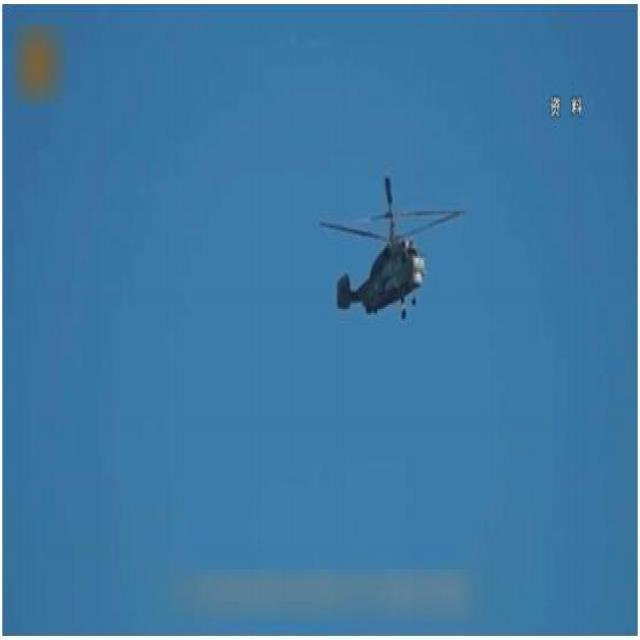MIL_HELO: (310, 139, 476, 361)
